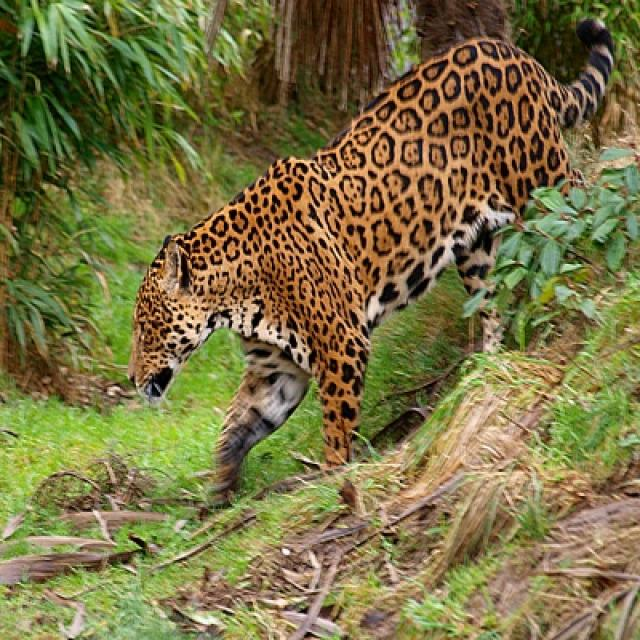Jaguar: (126, 19, 616, 512)
